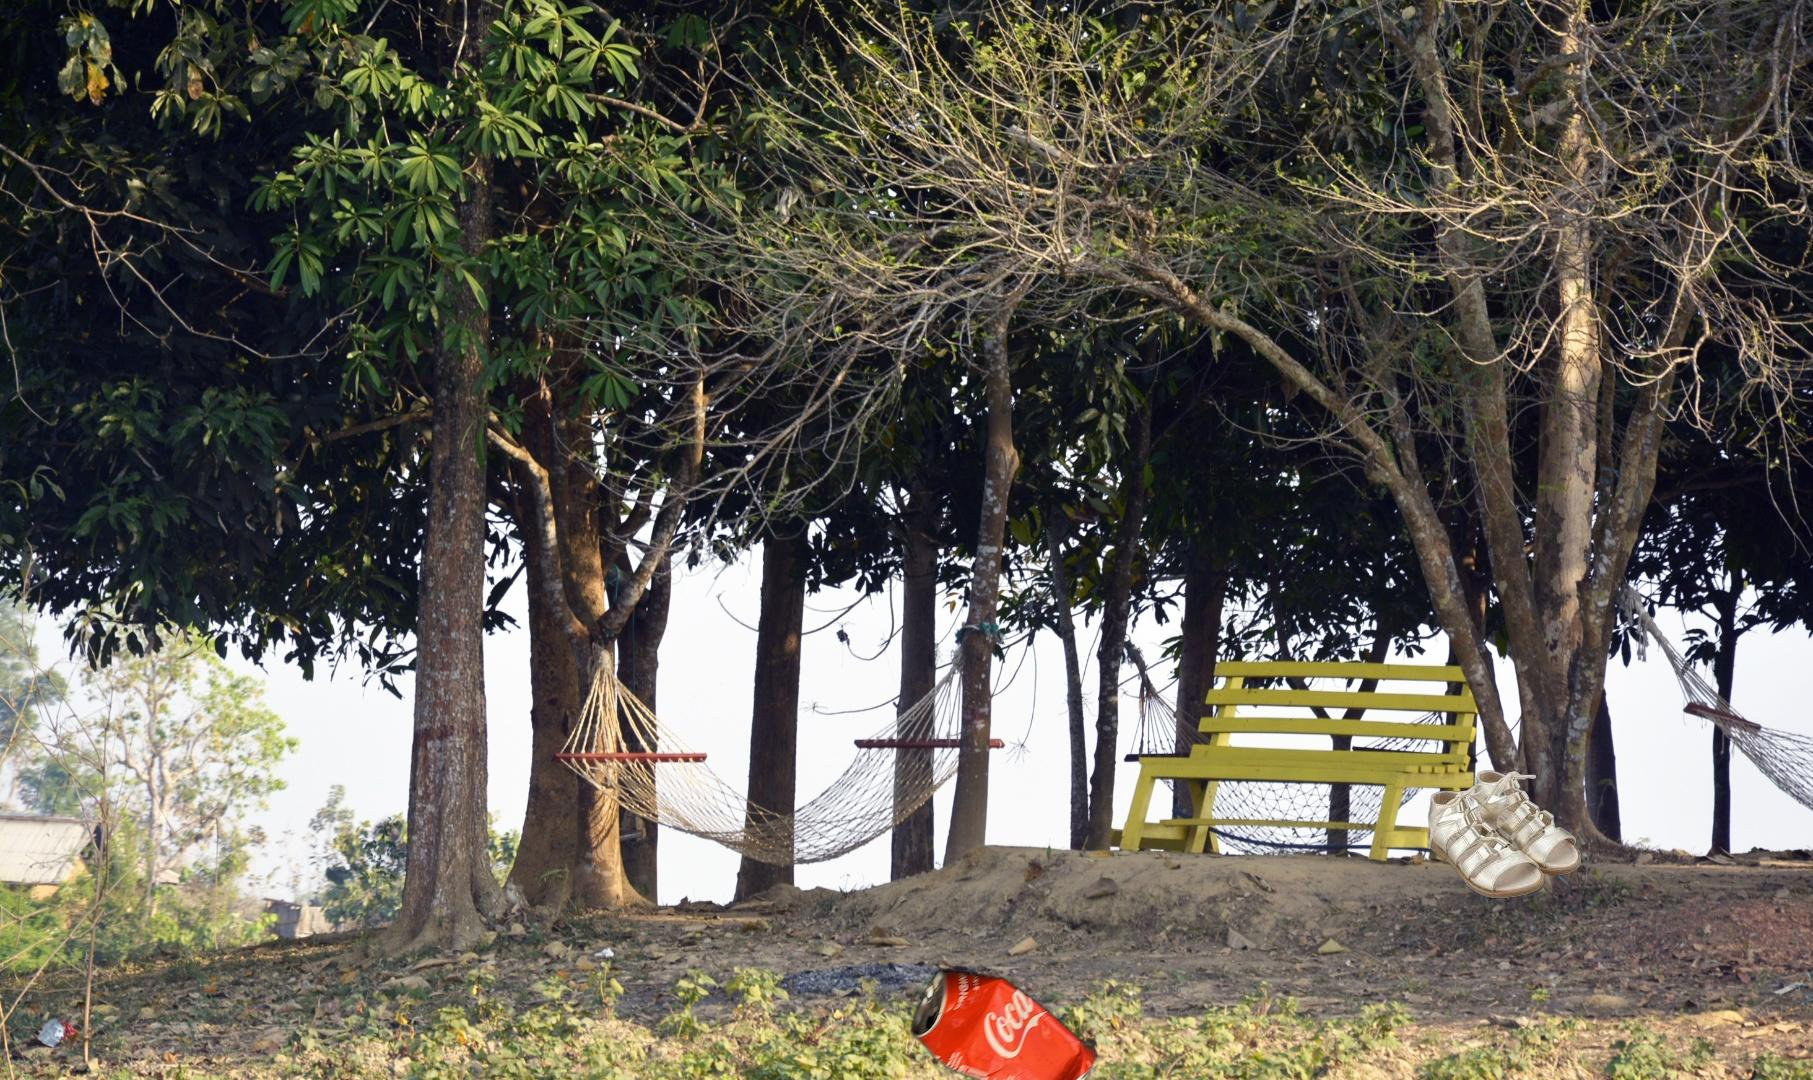metal-cans: (906, 964, 1101, 1080)
plastic-bottles: (973, 715, 1171, 1080)
shoes: (1425, 768, 1584, 901)
